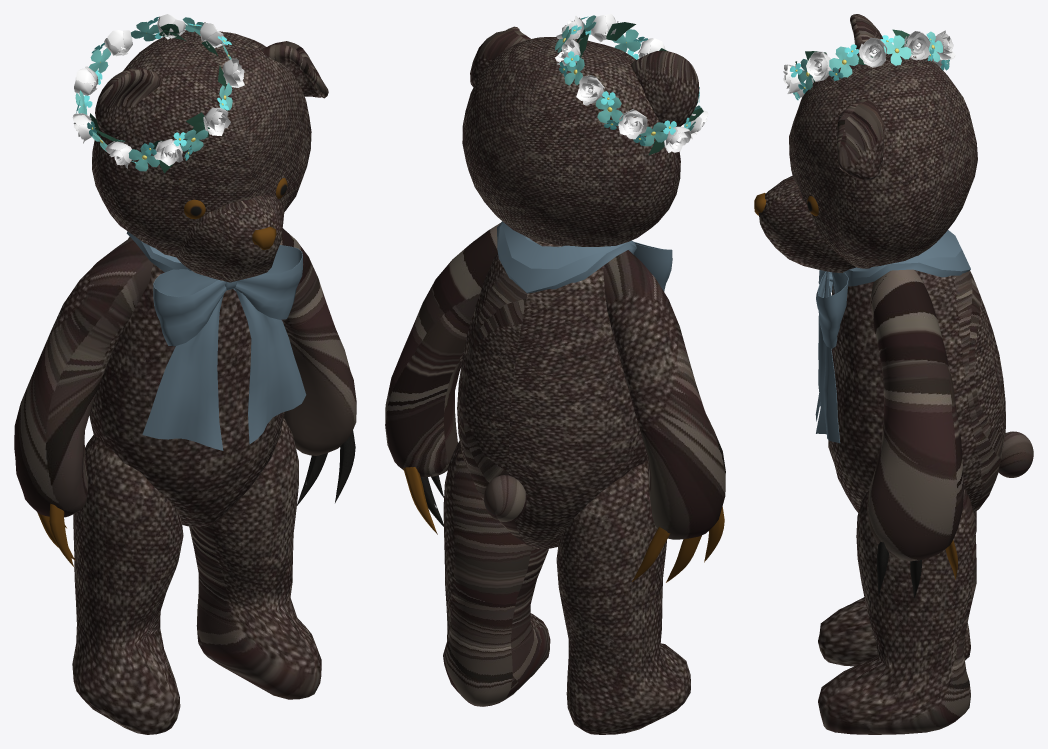
Rendered from StuffedBear2.fbx.
The picture shows the model from 3 angles, left to right: view 1: azimuth 30°, elevation 25°; view 2: azimuth 150°, elevation 25°; view 3: azimuth 270°, elevation 25°; orthographic projection. The views are drawn at different scales.
Visible parts, largest first — view 1: karada1, atama, robonn, hanakannmuri, kuti, mimi, tume; view 2: karada1, atama, hanakannmuri, robonn, mimi, tume; view 3: karada1, atama, robonn, hanakannmuri, kuti, mimi, tume.
Part boxes in pixels (x1,y1,x2,y2): karada1: [14, 228, 356, 734]; atama: [92, 30, 311, 257]; robonn: [126, 231, 306, 450]; hanakannmuri: [72, 14, 244, 173]; kuti: [176, 195, 284, 282]; mimi: [95, 41, 328, 137]; tume: [37, 431, 355, 566]; karada1: [385, 223, 725, 734]; atama: [462, 37, 680, 246]; hanakannmuri: [555, 14, 708, 155]; robonn: [497, 221, 672, 293]; mimi: [470, 26, 699, 127]; tume: [403, 467, 724, 582]; karada1: [818, 269, 1033, 734]; atama: [789, 53, 977, 268]; robonn: [815, 230, 970, 443]; hanakannmuri: [783, 29, 955, 100]; kuti: [758, 175, 855, 272]; mimi: [837, 14, 884, 180]; tume: [876, 540, 957, 598].
Size of the model in its own units: 278 by 560 by 215.
Materials: 5 (4 with a texture image).
